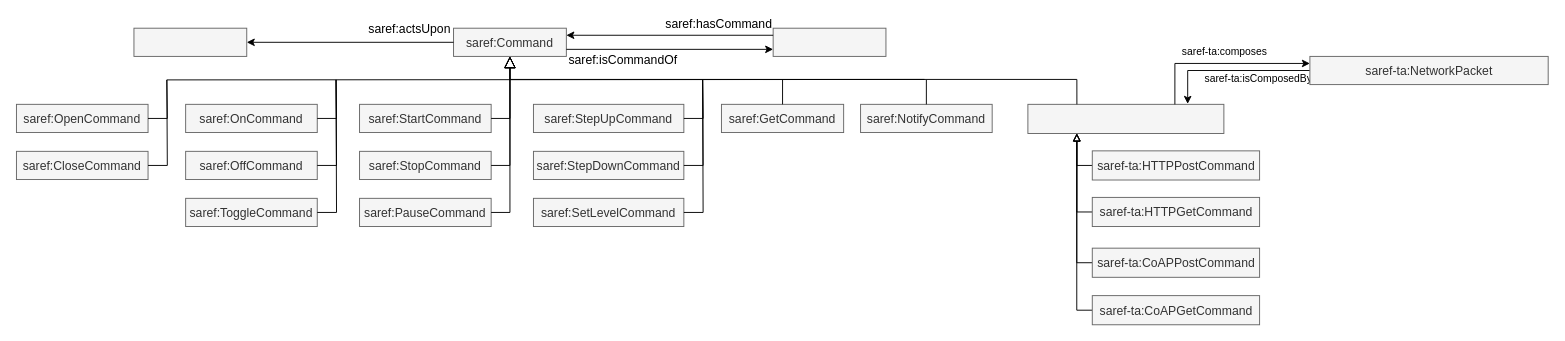
The diagram is 1565 pixels wide and 341 high, and some of its shapes have lost their labels. Each missing label, with the box of its shape:
saref-ta:NetworkProtocolCommand: (1027, 103, 1224, 133)
saref:Function: (772, 27, 886, 56)
saref:State: (133, 27, 247, 56)
